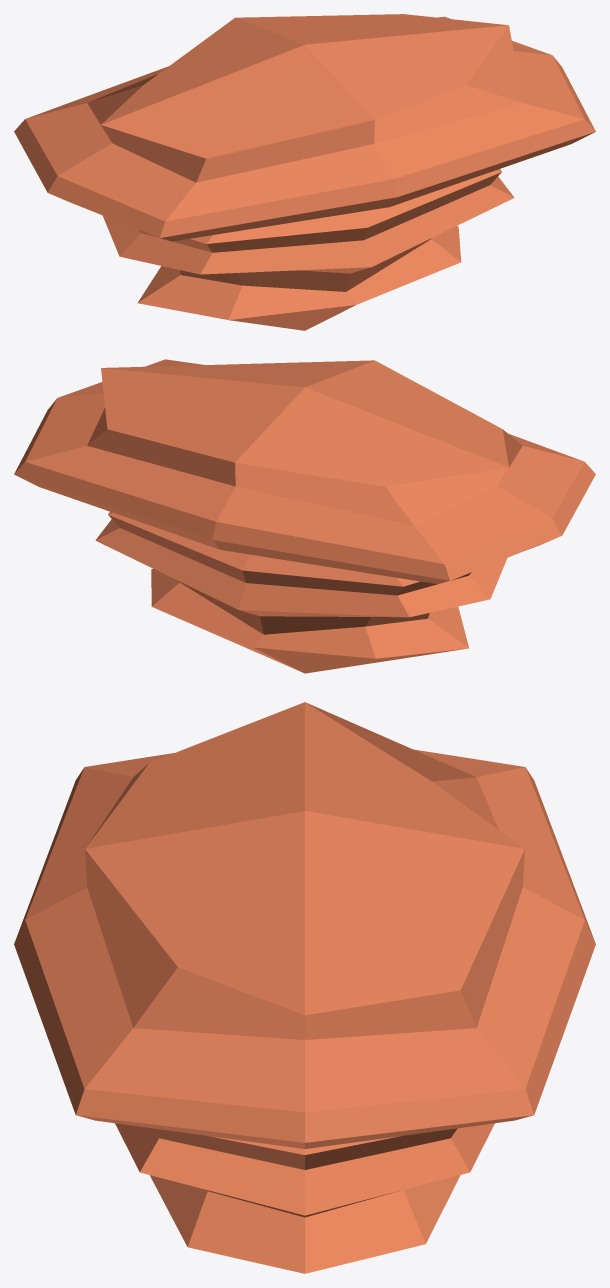
The model's file is stonetower3.fbx.
3 views of the same model, one above another, from view 1: azimuth 30°, elevation 25°; view 2: azimuth 150°, elevation 25°; view 3: azimuth 270°, elevation 25° (orthographic). The views are drawn at different scales.
Visible parts, largest first — view 1: Plane.004; view 2: Plane.004; view 3: Plane.004.
Part boxes in pixels (box(x1,y1,x2,y2)): Plane.004: box(14, 14, 595, 330); Plane.004: box(14, 359, 595, 673); Plane.004: box(14, 702, 595, 1273).
Size of the model in its own units: 668 by 355 by 416.
